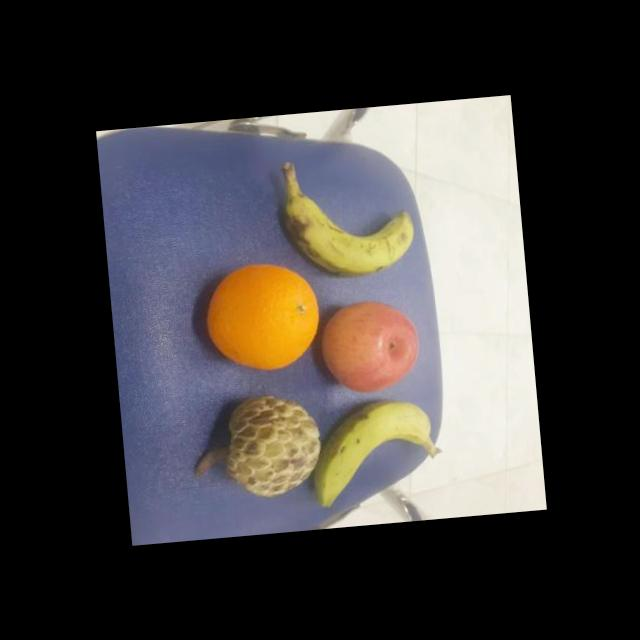Sakya fruit: (216, 387, 327, 502)
apple: (315, 295, 424, 399)
banana: (306, 394, 442, 515), (281, 180, 418, 285)
orange: (198, 256, 324, 378)
